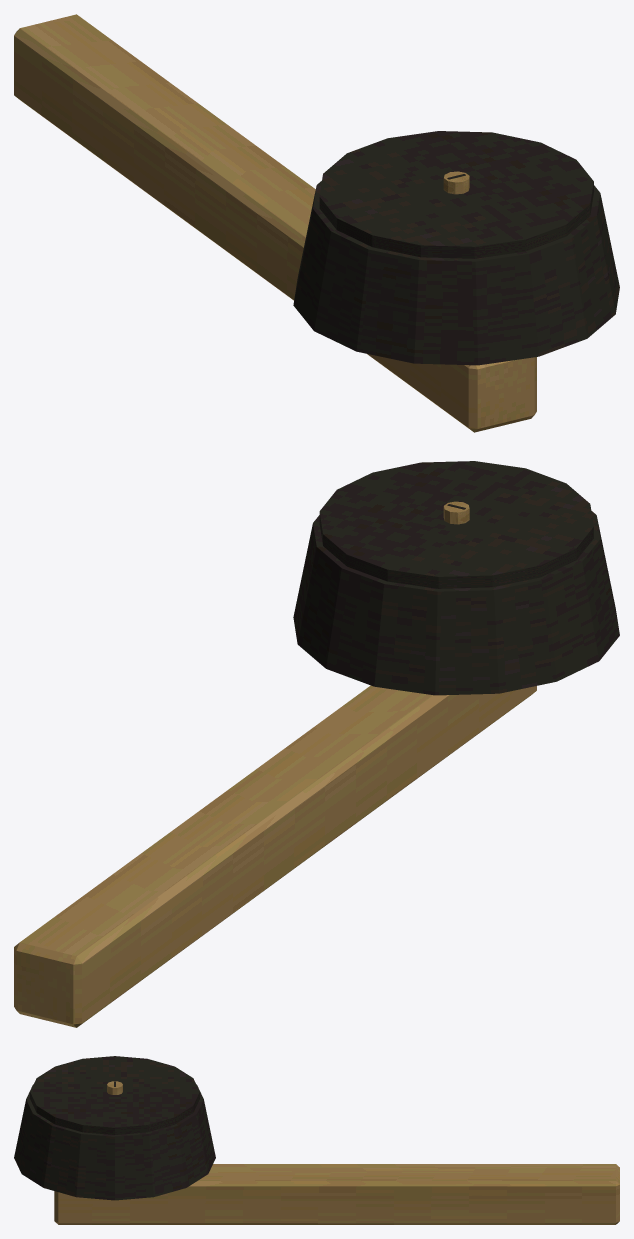
File: key_lever.glb
3 renders of one model, top to bottom at view 1: azimuth 30°, elevation 25°; view 2: azimuth 150°, elevation 25°; view 3: azimuth 270°, elevation 25°, orthographic. The views are drawn at different scales.
Parts seen in each view (by area): view 1: key_lever; view 2: key_lever; view 3: key_lever.
Boxes of the visible parts, <box> form: key_lever: <box>14,14,619,432</box>; key_lever: <box>14,461,619,1027</box>; key_lever: <box>14,1056,619,1224</box>.
Size of the model in its own units: 0.05 by 0.0361 by 0.15.
Materials: 2 (2 with a texture image).
